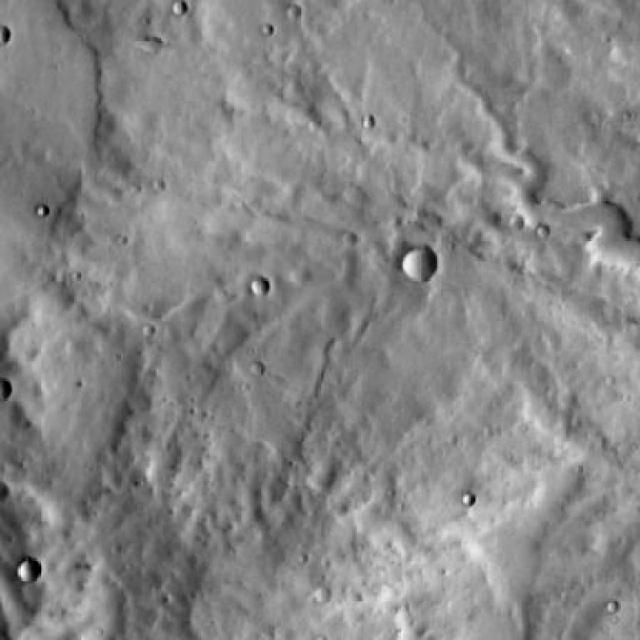crater: (393, 243, 433, 283), (12, 554, 34, 578), (249, 280, 266, 298)
